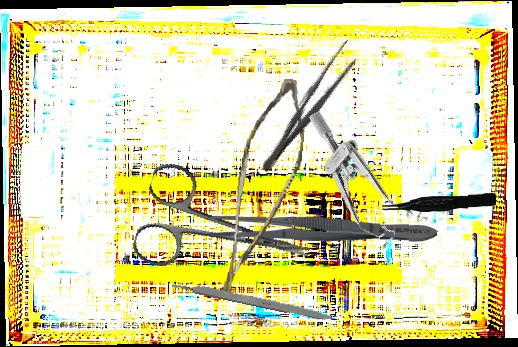Dressing Forceps: (254, 37, 364, 178), (208, 211, 438, 248)
Iris Scissors: (129, 159, 322, 306)
Micro Scissor: (217, 74, 310, 311)
Scalpel Handle: (171, 277, 337, 324)
Speculum: (272, 107, 440, 261)
Tissue Forceps: (381, 193, 497, 213)
